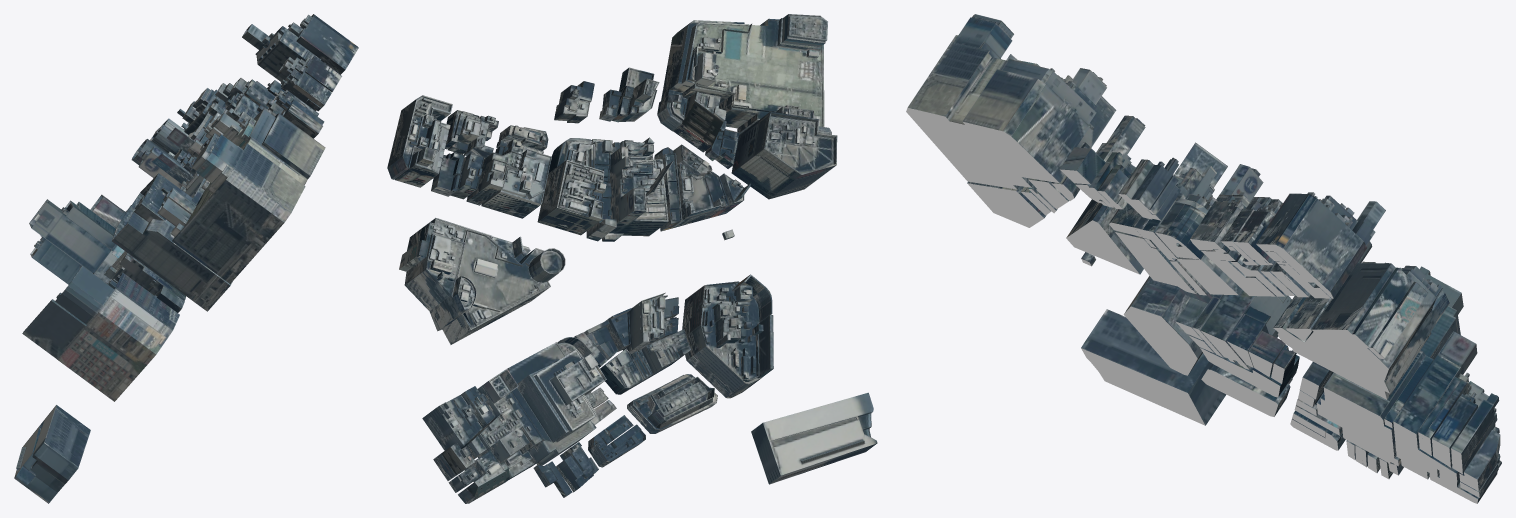
Rendered from l2_data518.glb.
3 views of the same model, side by side, from view 1: azimuth 30°, elevation 25°; view 2: azimuth 150°, elevation 25°; view 3: azimuth 270°, elevation 25° (orthographic). The views are drawn at different scales.
Bounding box in the file's own units: 207 × 186 × 227.
2 materials, 1 textured.
